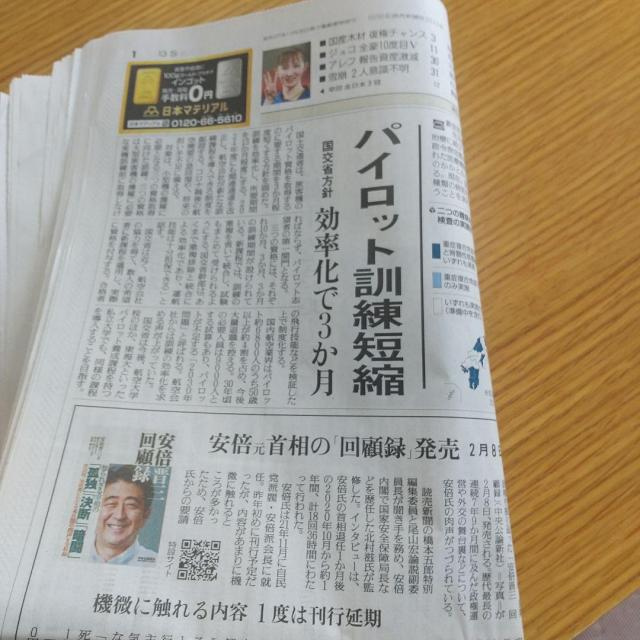newspaper: (6, 2, 520, 640)
